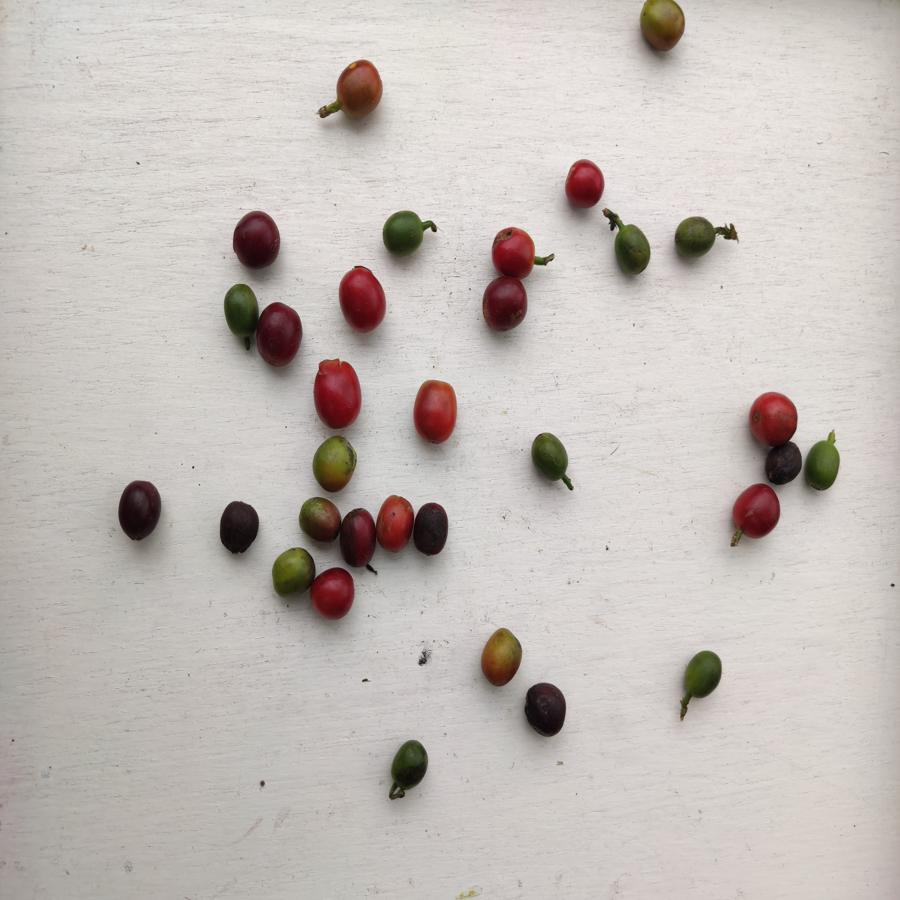Inmaduro: (528, 429, 577, 481), (678, 649, 726, 702), (386, 738, 431, 792), (615, 222, 655, 280), (221, 282, 260, 341), (382, 210, 427, 255), (674, 215, 718, 259), (804, 437, 841, 489)
Maduro: (311, 358, 364, 430), (338, 265, 389, 335), (413, 379, 459, 447), (746, 389, 799, 444), (374, 493, 413, 556), (492, 225, 538, 278), (314, 566, 356, 624), (561, 158, 606, 211)
Pinton: (334, 59, 385, 119), (637, 1, 688, 55), (311, 436, 358, 494), (480, 626, 524, 687), (269, 543, 316, 599), (300, 497, 341, 543)
Sobremaduro: (255, 303, 303, 371), (231, 210, 282, 272), (731, 483, 785, 540), (118, 478, 162, 543), (480, 278, 530, 334), (218, 498, 259, 556), (524, 683, 567, 737), (415, 500, 452, 559), (342, 507, 374, 570), (762, 443, 803, 485)
